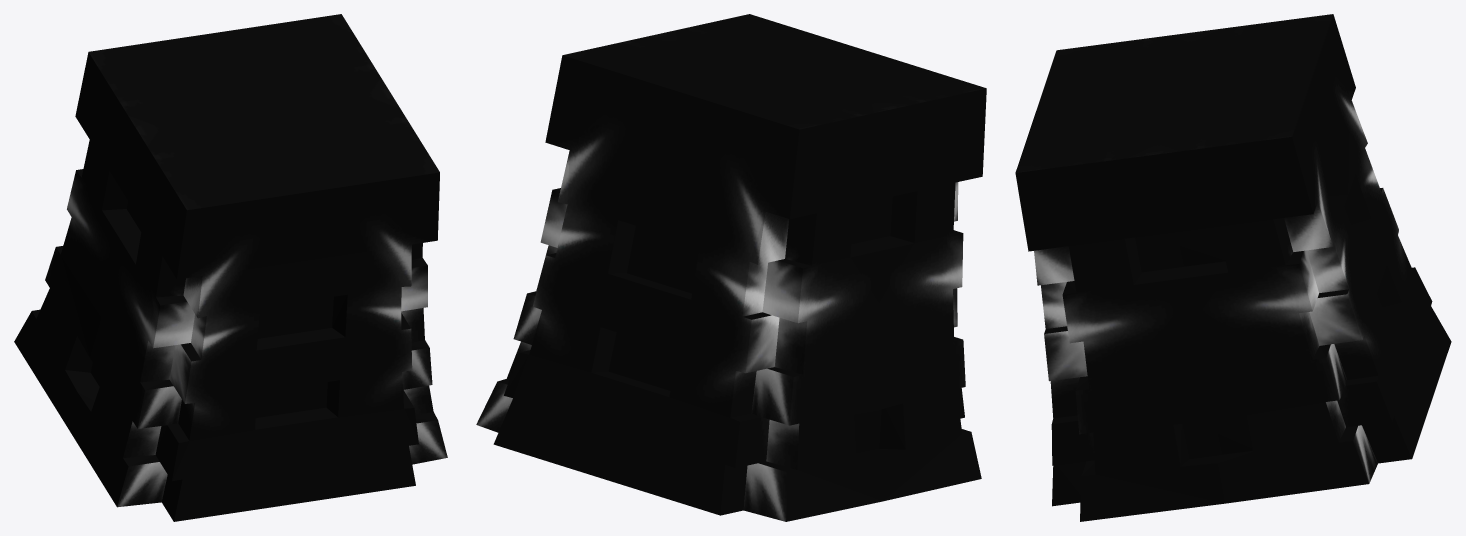
3 views of the same model, side by side, from view 1: azimuth 30°, elevation 25°; view 2: azimuth 150°, elevation 25°; view 3: azimuth 270°, elevation 25° (orthographic). The views are drawn at different scales.
Size of the model in its own units: 2.06 by 2.2 by 2.2.
Materials: 1 (1 with a texture image).
